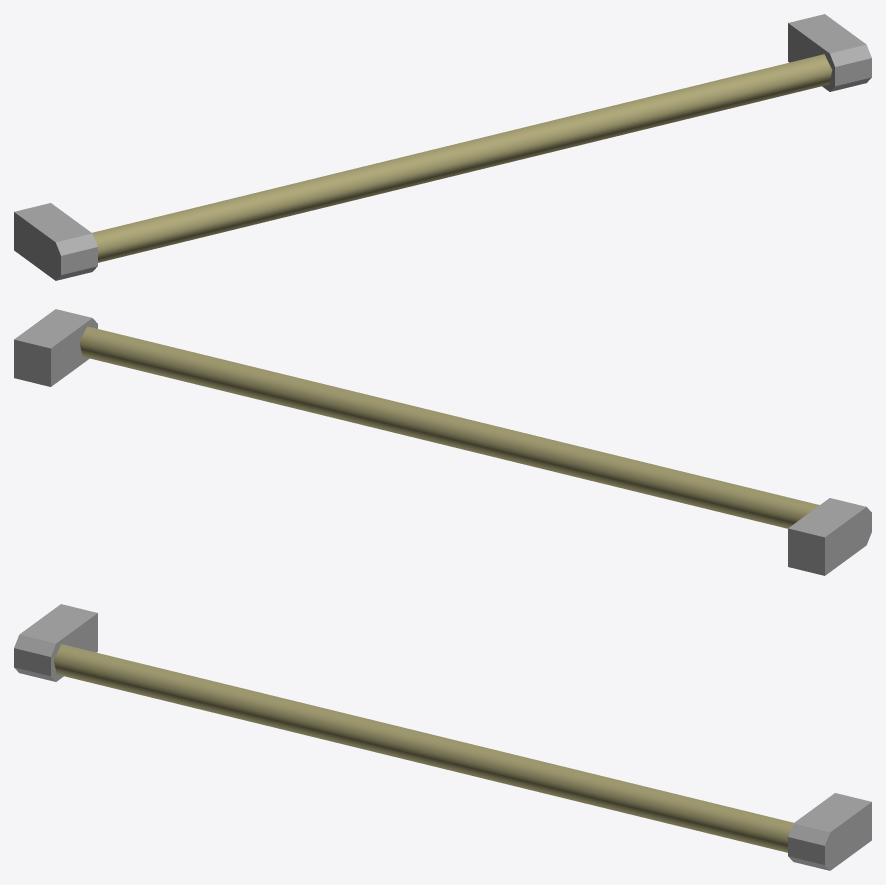
File: wall_lamp.fbx
3 renders of one model, top to bottom at view 1: azimuth 30°, elevation 25°; view 2: azimuth 150°, elevation 25°; view 3: azimuth 330°, elevation 25°, orthographic.
Visible parts, largest first — view 1: wall_lamp; view 2: wall_lamp; view 3: wall_lamp.
Part boxes in pixels (box(x1,y1,x2,y2)): wall_lamp: box(14, 14, 871, 280); wall_lamp: box(14, 309, 871, 575); wall_lamp: box(14, 604, 871, 870).
Bounding box in the file's own units: 2.09 × 0.0951 × 0.2103.
